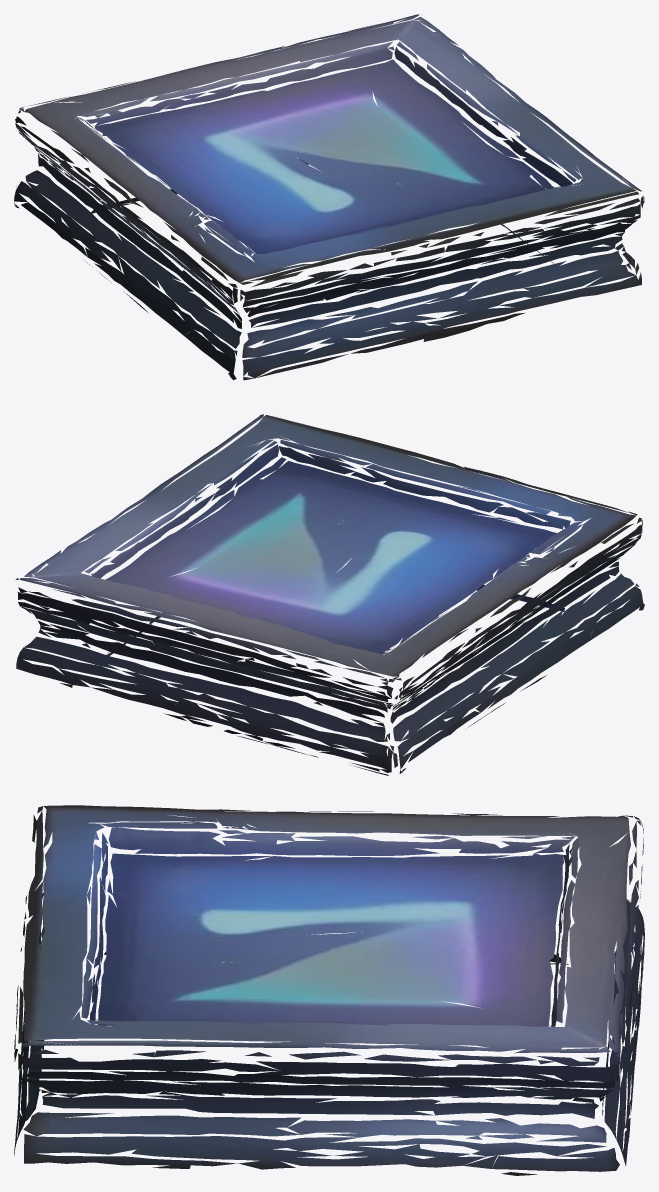
Rendered from glass_floor.glb.
The picture shows the model from 3 angles, top to bottom: view 1: azimuth 30°, elevation 25°; view 2: azimuth 150°, elevation 25°; view 3: azimuth 270°, elevation 25°; orthographic projection. The views are drawn at different scales.
Parts seen in each view (by area): view 1: world; view 2: world; view 3: world.
Boxes of the visible parts, bbox=[...] form: world: bbox=[14, 14, 644, 380]; world: bbox=[16, 414, 644, 775]; world: bbox=[14, 805, 644, 1175].
Size of the model in its own units: 0.9676 by 0.2307 by 0.9996.
1 material, 1 textured.
